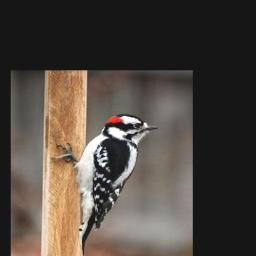Woodpecker: (50, 114, 159, 253)
